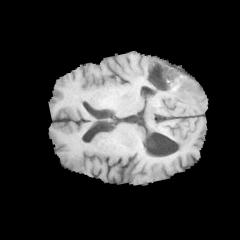glioma: (144, 55, 202, 101)
